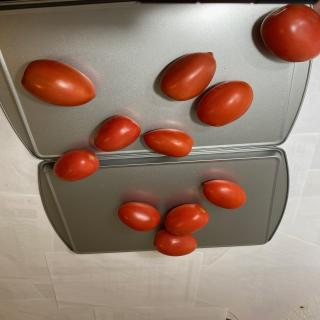Tomato: (21, 59, 96, 107), (260, 3, 320, 62), (160, 52, 217, 101), (197, 80, 253, 127), (93, 115, 141, 152), (143, 128, 194, 158), (53, 149, 99, 182), (164, 203, 210, 235), (203, 180, 246, 210), (118, 202, 161, 232), (153, 229, 198, 256)
